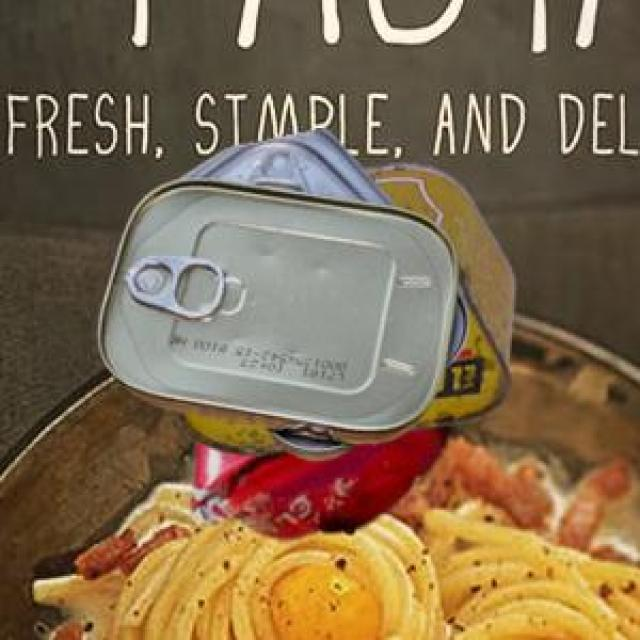Can: (95, 127, 466, 458), (172, 159, 511, 451), (189, 422, 445, 537)
